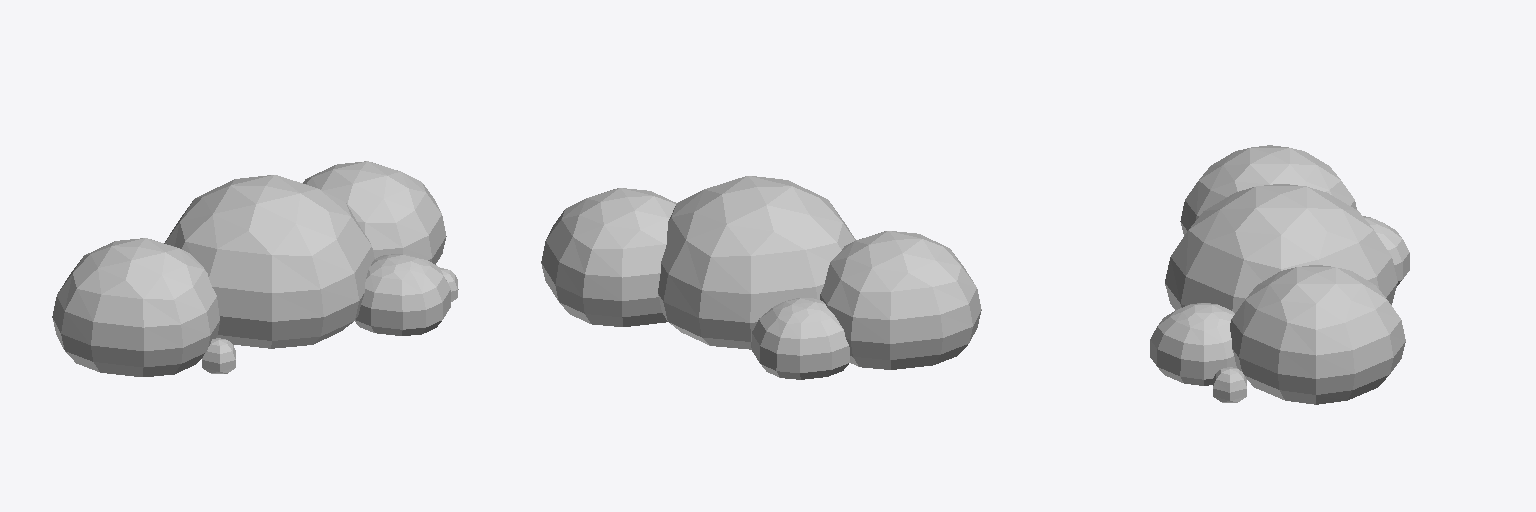
Rendered from Bush_1_G_Color1.obj.
3 views of the same model, side by side, from view 1: azimuth 30°, elevation 25°; view 2: azimuth 150°, elevation 25°; view 3: azimuth 270°, elevation 25° (orthographic).
Parts seen in each view (by area): view 1: Bush_1_G_Color1; view 2: Bush_1_G_Color1; view 3: Bush_1_G_Color1.
Part boxes in pixels (bbox=[...]): Bush_1_G_Color1: bbox=[52, 161, 458, 376]; Bush_1_G_Color1: bbox=[541, 176, 981, 379]; Bush_1_G_Color1: bbox=[1150, 145, 1409, 404].
Bounding box in the file's own units: 3.1 × 0.9937 × 1.75.